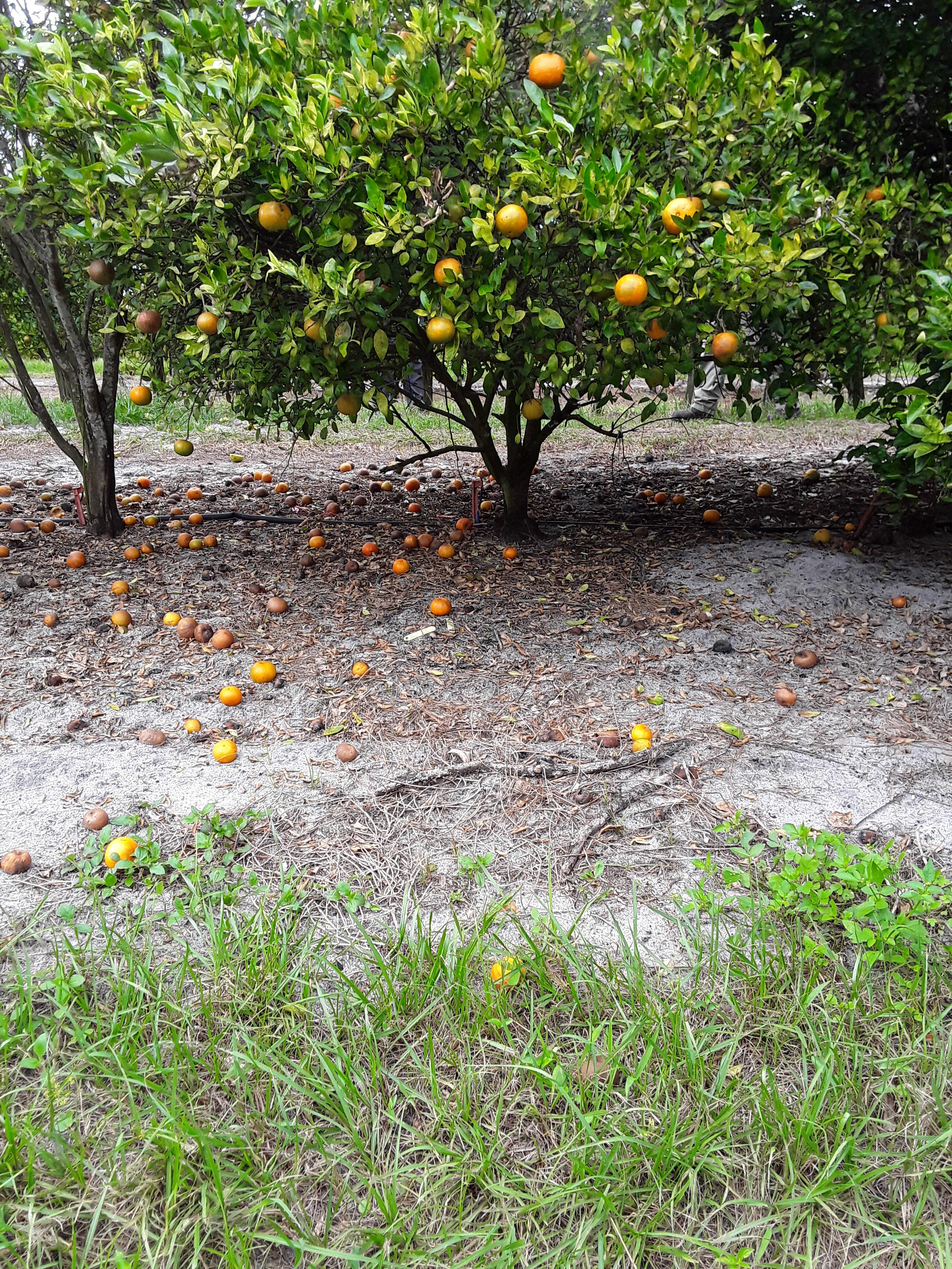fruit_on_ground: (663, 196, 703, 238), (529, 53, 567, 89), (494, 203, 528, 239), (257, 199, 291, 233), (615, 273, 648, 308), (711, 330, 741, 366), (431, 255, 464, 286), (134, 308, 164, 337), (426, 316, 456, 345), (194, 311, 223, 337), (88, 258, 116, 284), (299, 319, 328, 344), (706, 180, 733, 206), (646, 316, 672, 342), (864, 181, 891, 205), (522, 398, 546, 423), (335, 394, 364, 414), (325, 343, 348, 368), (323, 88, 345, 110), (130, 386, 153, 405), (465, 36, 481, 62), (584, 47, 604, 67), (173, 439, 194, 457), (874, 312, 893, 330), (350, 122, 362, 140)
fruit_on_tree: (102, 834, 140, 874), (490, 955, 528, 989), (0, 848, 33, 874), (248, 659, 279, 685), (212, 739, 241, 764), (80, 809, 110, 833), (206, 628, 236, 650), (174, 615, 202, 638), (794, 648, 821, 671), (597, 725, 624, 748), (218, 684, 243, 708), (428, 597, 454, 618), (334, 743, 361, 763), (776, 682, 800, 704), (630, 722, 656, 742), (191, 623, 213, 646), (266, 595, 290, 615), (161, 610, 186, 629), (140, 728, 166, 746), (632, 737, 652, 757), (112, 607, 131, 628), (500, 544, 522, 562), (710, 639, 736, 654), (434, 543, 458, 559), (813, 525, 832, 545), (892, 593, 912, 612), (109, 579, 130, 597), (703, 508, 723, 526), (66, 551, 86, 569), (295, 552, 317, 568), (755, 482, 775, 499), (18, 573, 36, 591), (353, 659, 369, 679), (651, 492, 672, 507), (360, 540, 381, 555), (10, 516, 27, 534), (309, 534, 327, 551), (177, 530, 193, 549), (418, 534, 438, 549), (121, 547, 142, 561), (133, 474, 150, 491), (403, 477, 421, 493), (392, 558, 410, 574), (39, 519, 58, 534), (448, 529, 463, 548), (183, 719, 204, 732), (804, 468, 819, 486), (186, 514, 206, 527), (183, 487, 202, 500), (142, 512, 158, 527), (121, 513, 137, 528), (404, 534, 420, 549), (698, 468, 715, 482), (45, 577, 62, 591), (430, 467, 445, 482), (12, 478, 28, 492), (42, 613, 58, 627), (201, 534, 218, 547), (479, 499, 494, 513), (58, 499, 73, 513), (23, 518, 37, 533), (344, 560, 359, 574), (325, 502, 341, 515), (458, 517, 474, 530), (254, 486, 269, 499), (284, 496, 299, 509), (0, 499, 15, 512), (274, 481, 290, 493), (407, 502, 423, 514), (671, 495, 688, 506), (139, 543, 156, 554), (0, 484, 14, 497), (50, 507, 64, 520), (475, 467, 490, 479), (633, 491, 648, 503), (38, 492, 56, 502), (352, 496, 370, 506), (56, 487, 73, 497), (119, 498, 136, 508), (169, 518, 182, 531), (843, 521, 856, 534), (369, 481, 383, 493), (169, 507, 185, 517), (448, 479, 461, 491), (380, 479, 393, 491), (190, 539, 202, 552), (641, 486, 655, 497), (336, 482, 351, 492), (302, 495, 314, 507), (49, 674, 60, 687), (261, 472, 273, 483), (154, 486, 165, 498), (240, 473, 253, 483), (339, 463, 353, 472), (130, 494, 141, 505), (355, 468, 369, 476), (347, 460, 357, 471), (0, 544, 7, 559), (830, 513, 840, 523), (402, 468, 413, 477), (254, 470, 263, 481), (231, 475, 242, 484), (34, 478, 45, 486), (366, 464, 378, 471), (224, 479, 235, 486), (327, 493, 336, 501), (209, 493, 217, 502), (63, 483, 73, 490), (116, 492, 123, 502), (349, 485, 360, 491)
